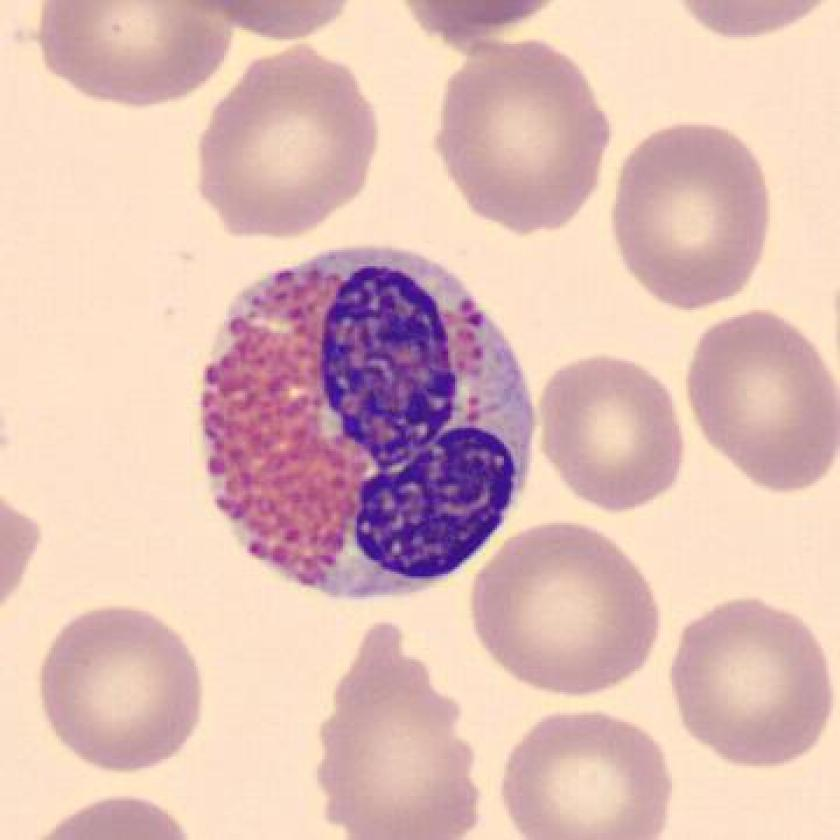eosinophil: (188, 240, 549, 615)
